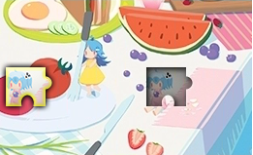gap: (146, 67, 193, 107)
